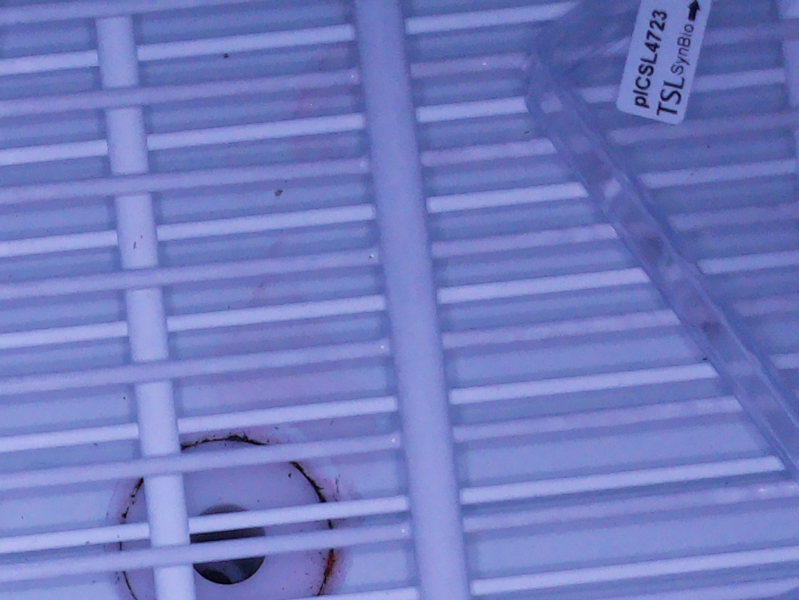plate: (515, 1, 799, 484)
